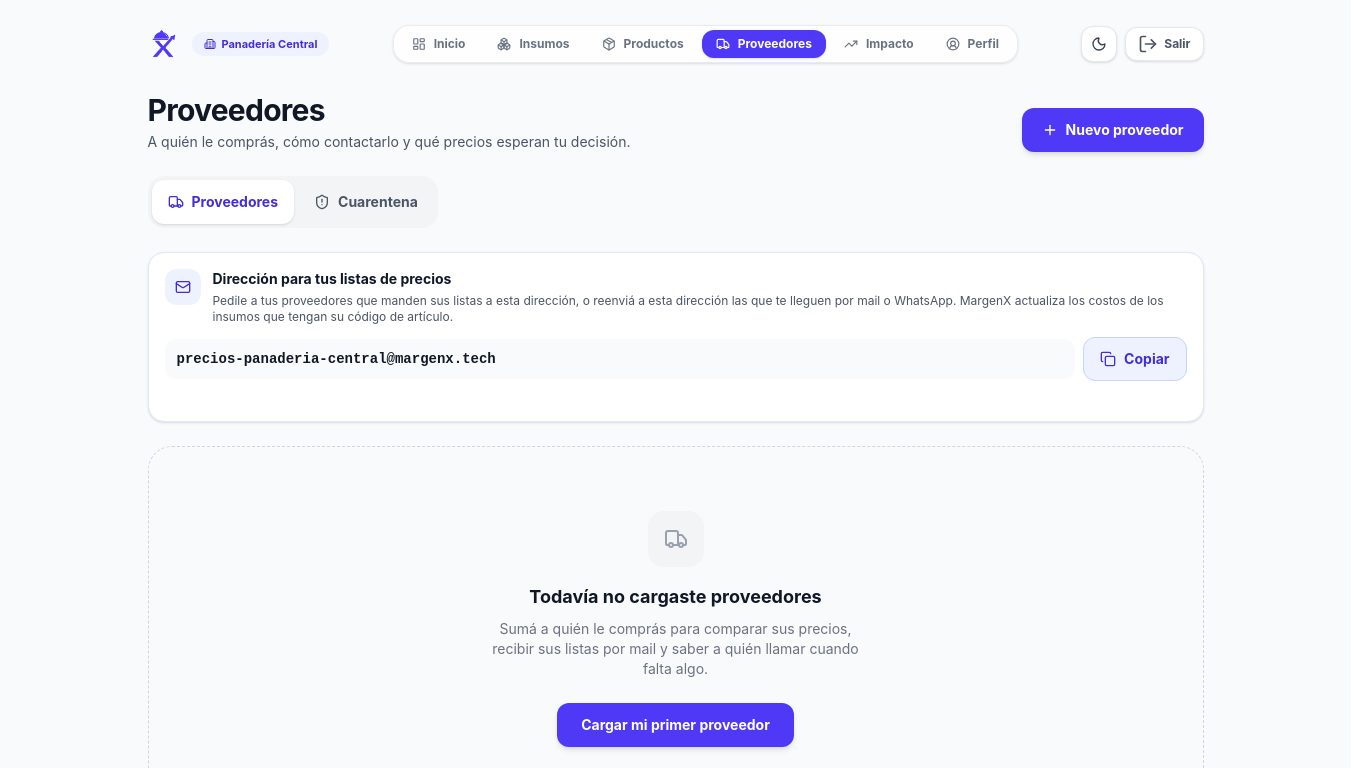
it: SuppliersPageContent › sin proveedores invita a cargar el primero y abre el alta
Check: the heading "Todavía no cargaste proveedores" is shown, box [529,583,822,611]
Click the button "Cargar mi primer proveedor": {"x": 676, "y": 725} [557,703,794,747]
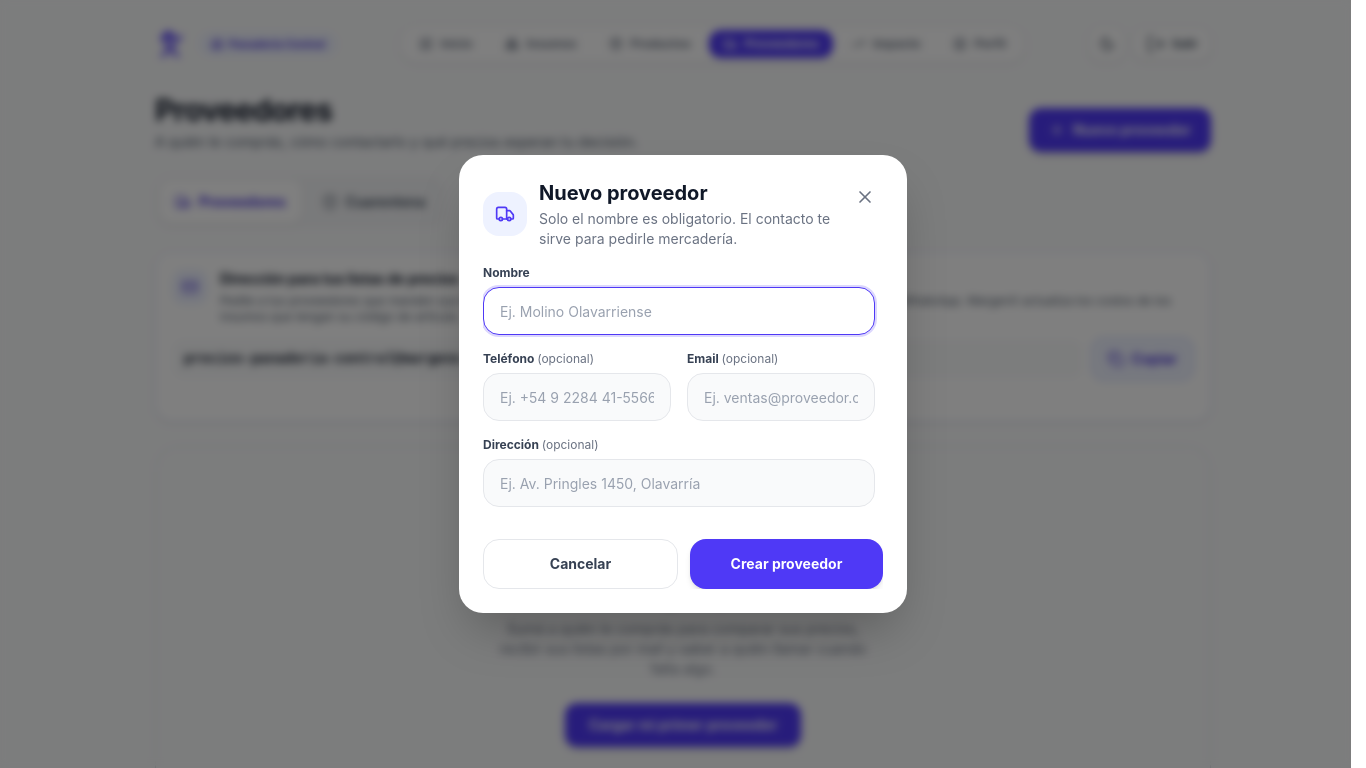
Check: the dialog "Nuevo proveedor" is shown, box [459,155,907,613]
